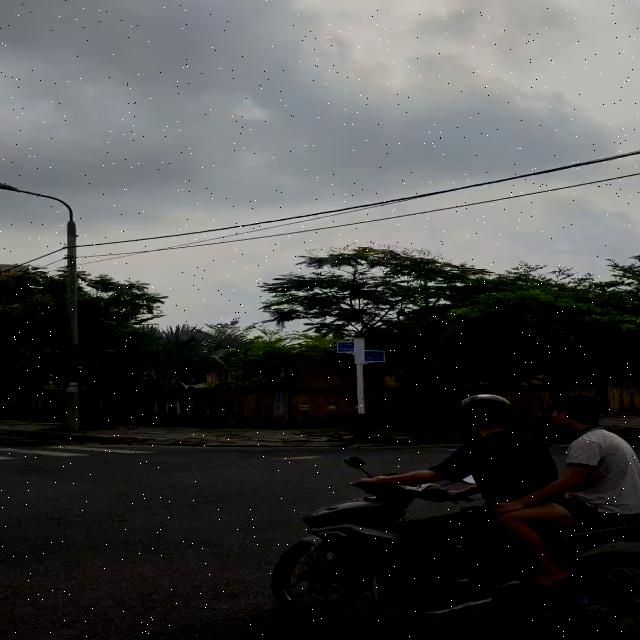helmet: (458, 394, 524, 435)
no_helmet: (544, 392, 611, 441)
